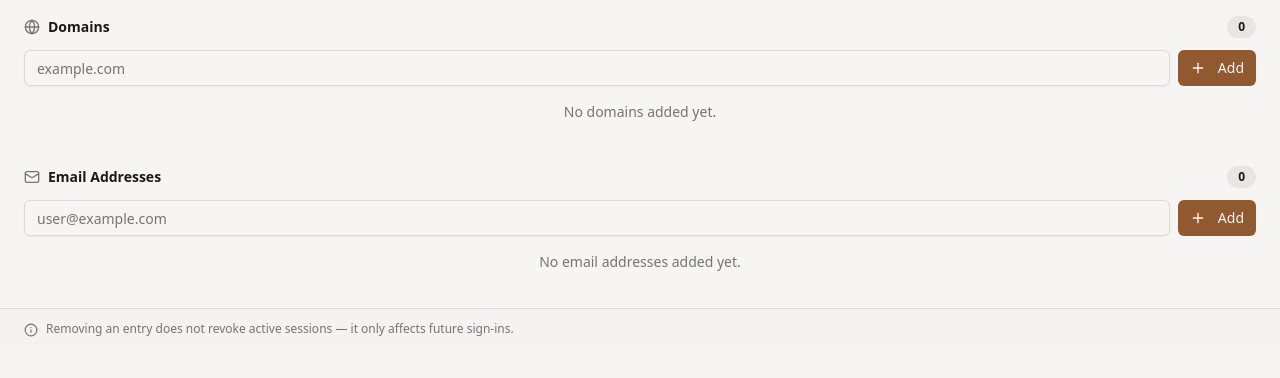
Test: AllowlistPanel › shows error when addEntry throws
Step 1. Type "fail.com" into the field with placeholder "example.com" → (597, 68), box [24, 50, 1170, 86]
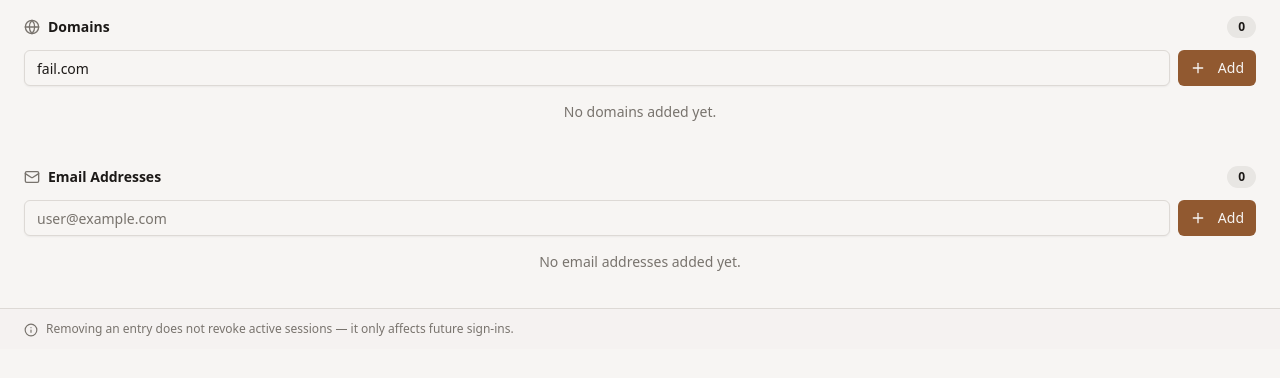
Step 2. Click the 1st button "Add" → click(1217, 68), box [1178, 50, 1256, 86]
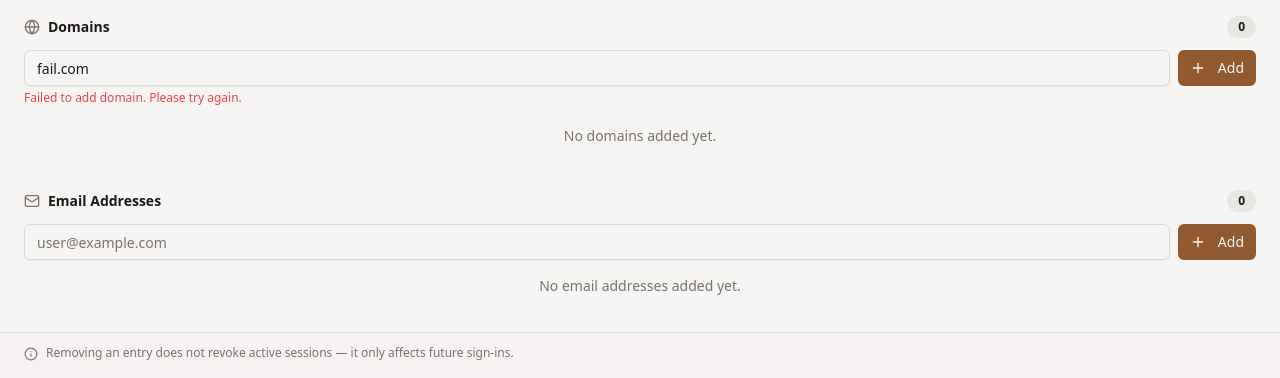
Check: the text "Failed to add domain" is shown, box [24, 89, 242, 106]
